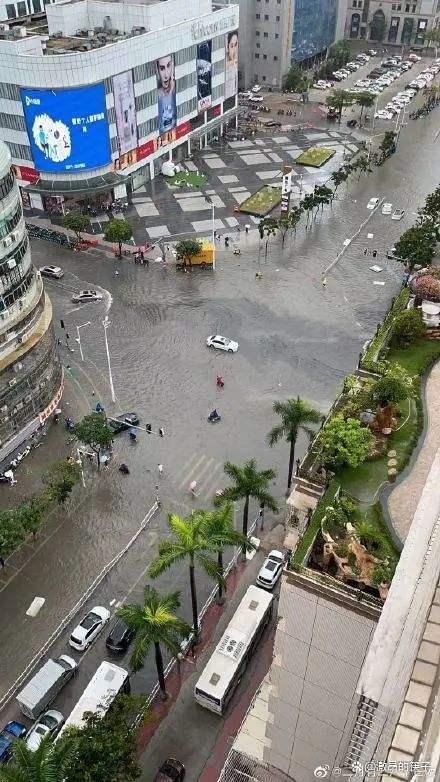puddle: (55, 258, 345, 487)
